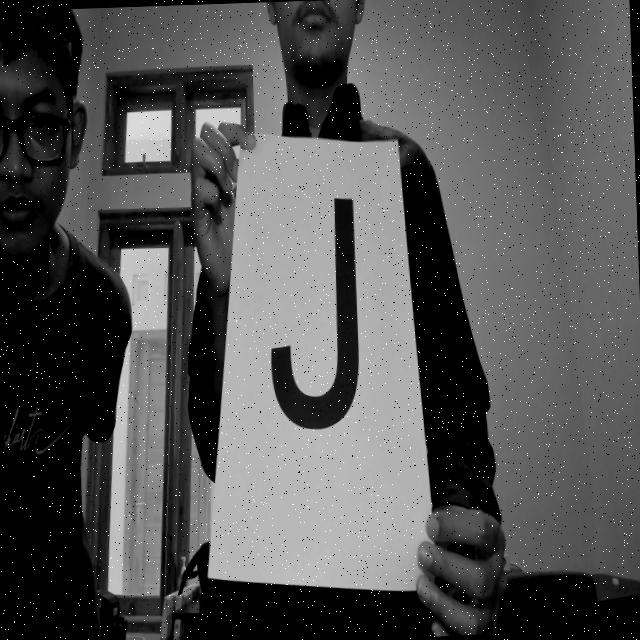j: (252, 176, 372, 466)
